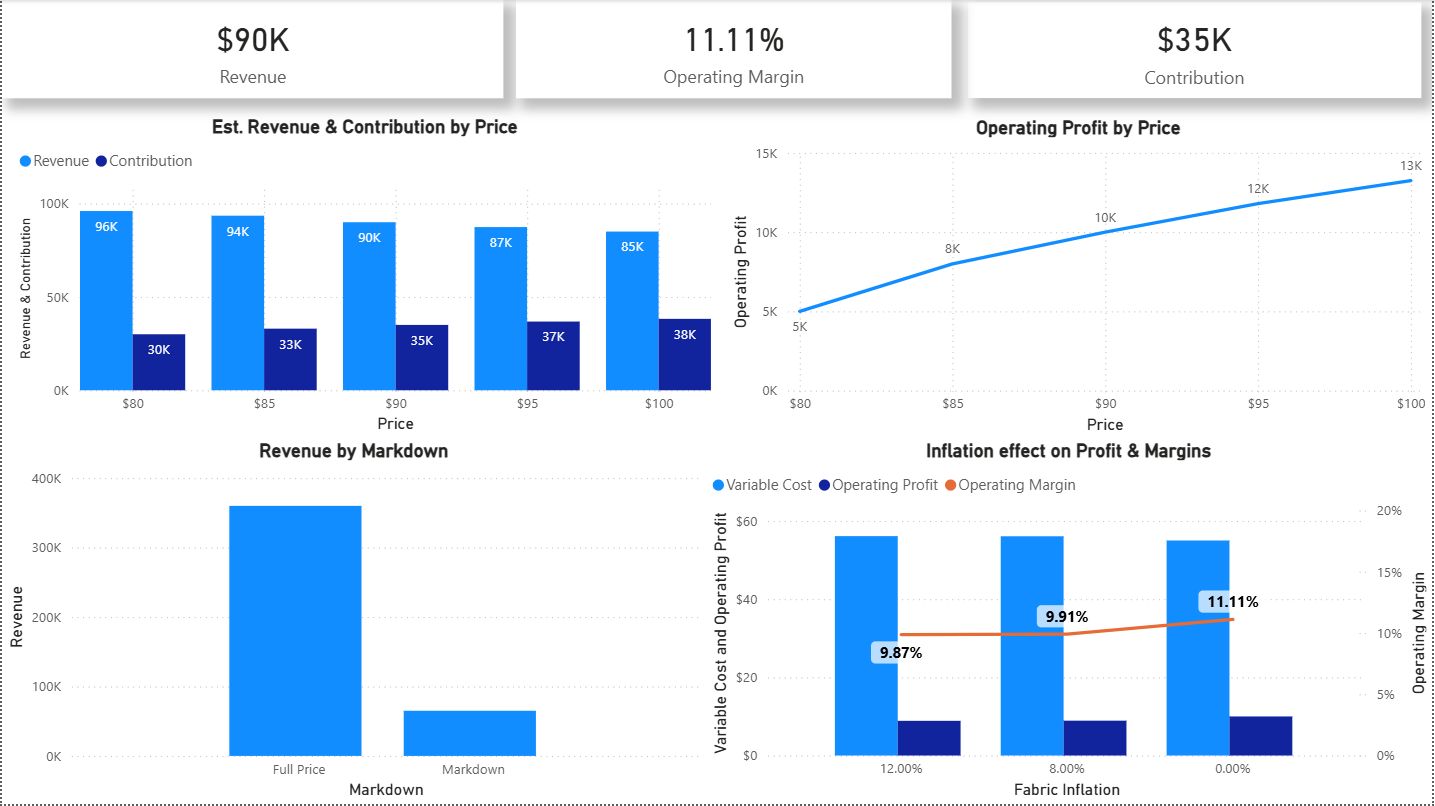

What the dashboard file says about the page in this screenshot:
{"tool":"powerbi","page":{"name":"Page 1","canvas":[1280,720],"ordinal":0},"visuals":[{"type":"lineChart","title":"Operating Profit by Price","fields":{"Category":["Pricing Sensitivity Table.Price"],"Y":["Sum(Pricing Sensitivity Table.Operating Profit)"]},"box":[648.8,104.1,631.2,288.9],"z":0},{"type":"clusteredColumnChart","title":"Est. Revenue &  Contribution by Price","fields":{"Category":["Pricing Sensitivity Table.Price"],"Y":["Sum(Pricing Sensitivity Table.Revenue)","Sum(Pricing Sensitivity Table.Contribution Margin)"]},"box":[9.7,103.1,630.3,289.8],"z":1000},{"type":"columnChart","title":"Revenue by Markdown","fields":{"Category":["Markdown Table.Markdown"],"Y":["Sum(Markdown Table.Revenue)"]},"box":[0,392.9,630.3,326.8],"z":2000},{"type":"card","fields":{"Values":["Sum(KPI.Contribution)"]},"box":[864.7,1.9,405.6,85.6],"z":3000},{"type":"card","fields":{"Values":["Sum(KPI.Revenue)"]},"box":[0,0,449.4,87.5],"z":4000},{"type":"card","fields":{"Values":["Sum(KPI.Operating Margin)"]},"box":[460.1,0,390,87.5],"z":5000},{"type":"lineClusteredColumnComboChart","title":"Inflation effect on Profit & Margins","fields":{"Category":["Table7.Fabric Inflation"],"Y":["Sum(Table7.Unit Variable Cost)","Sum(Table7.Operating Profit)"],"Y2":["Avg(Table7.Operating Margin)"]},"box":[630.3,392.9,649.7,326.8],"z":6000}]}

Visuals, with their boxes in screenshot pixels (x1, y1, x2, y2), scaled from the page's 1280x720 canvas onto the 1435x806 screenshot:
"Operating Profit by Price" lineChart: x1=727 y1=117 x2=1434 y2=440
"Est. Revenue &  Contribution by Price" clusteredColumnChart: x1=11 y1=115 x2=718 y2=440
"Revenue by Markdown" columnChart: x1=0 y1=440 x2=707 y2=805
card - Sum(KPI.Contribution): x1=969 y1=2 x2=1424 y2=98
card - Sum(KPI.Revenue): x1=0 y1=0 x2=504 y2=98
card - Sum(KPI.Operating Margin): x1=516 y1=0 x2=953 y2=98
"Inflation effect on Profit & Margins" lineClusteredColumnComboChart: x1=707 y1=440 x2=1434 y2=805
